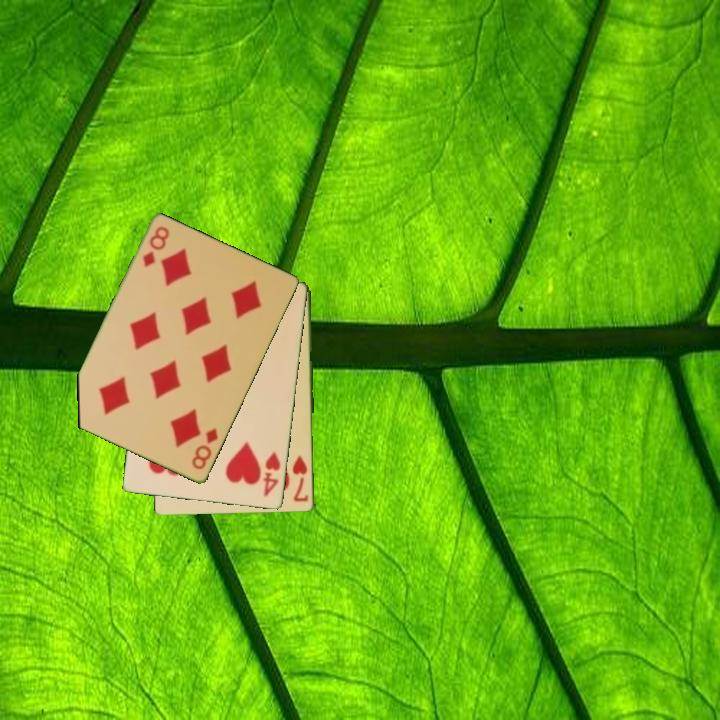4h: (260, 449, 283, 500)
7h: (289, 452, 311, 504)
8d: (188, 425, 221, 473), (139, 223, 172, 270)
